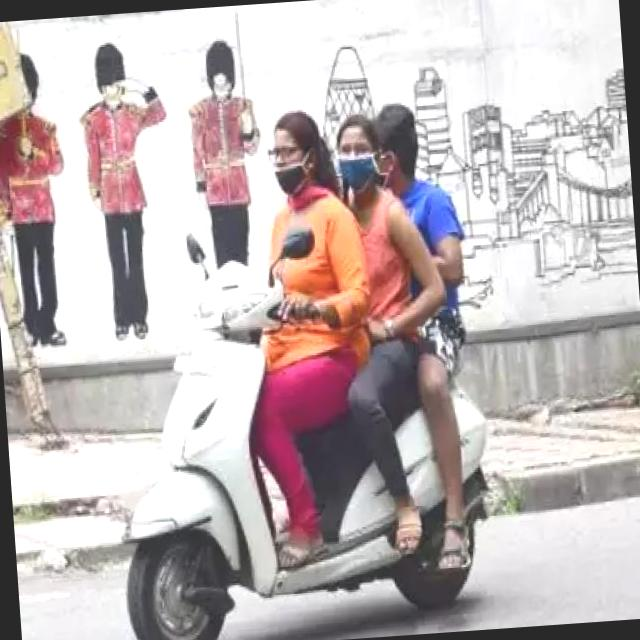motorcycle: (103, 239, 510, 640)
person: (352, 83, 476, 433), (233, 94, 369, 409), (296, 103, 415, 428)
rider_region: (88, 84, 500, 640)
